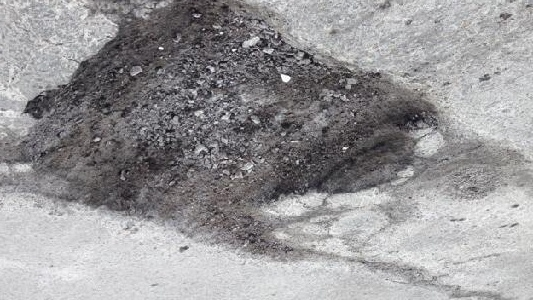pothole: (17, 1, 441, 261)
